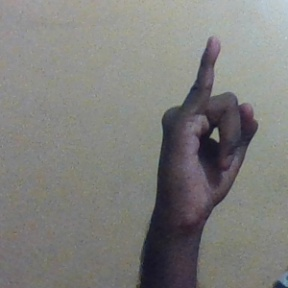I: (153, 35, 260, 228)
